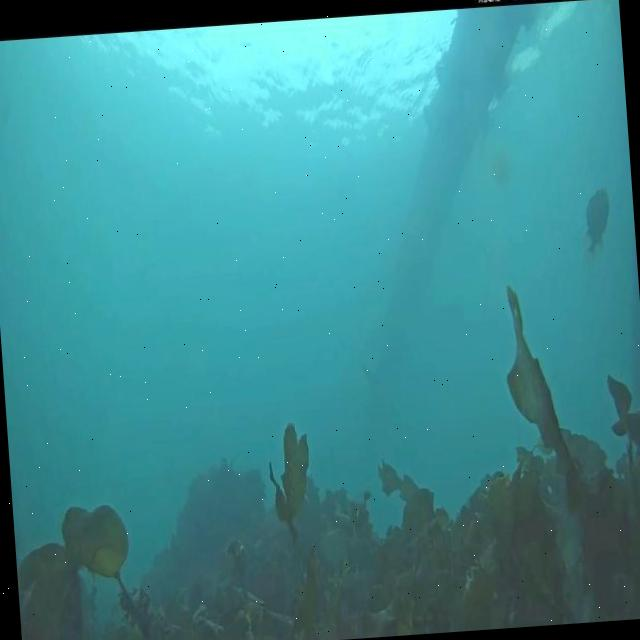fish: (578, 187, 612, 257), (356, 357, 384, 388)
